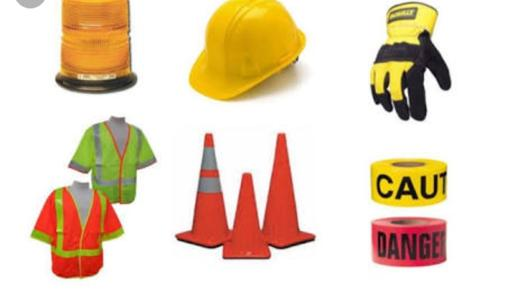hard hat: (184, 1, 313, 103)
